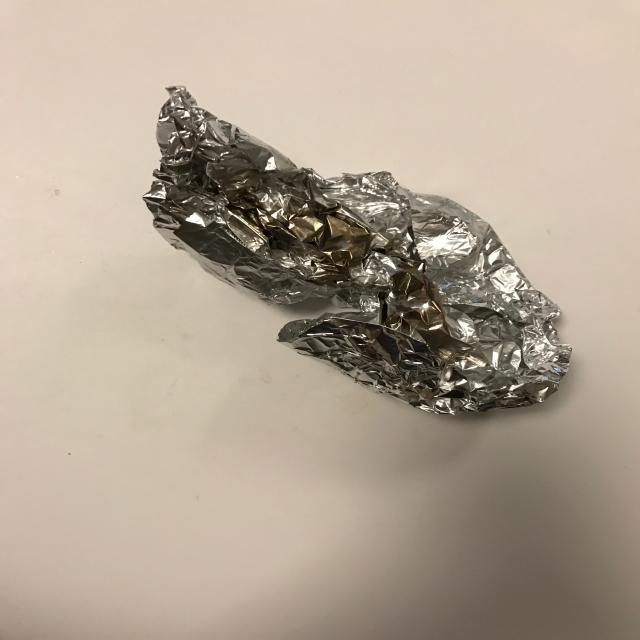metal: (147, 85, 576, 419)
